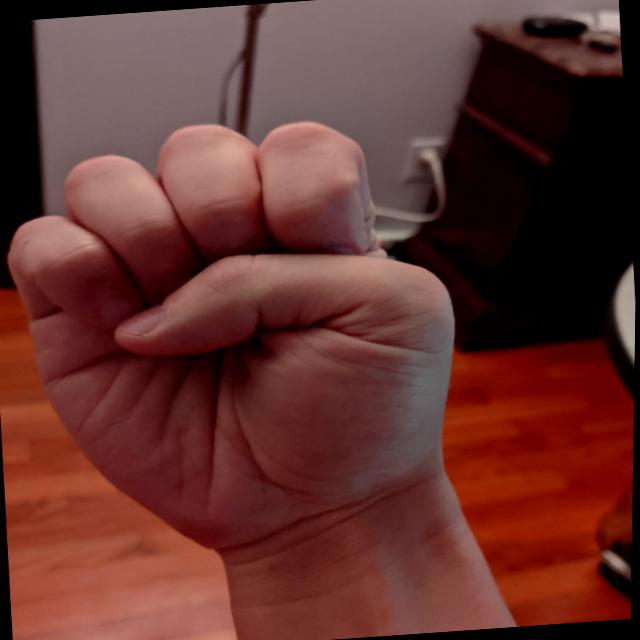E: (0, 102, 482, 573)
